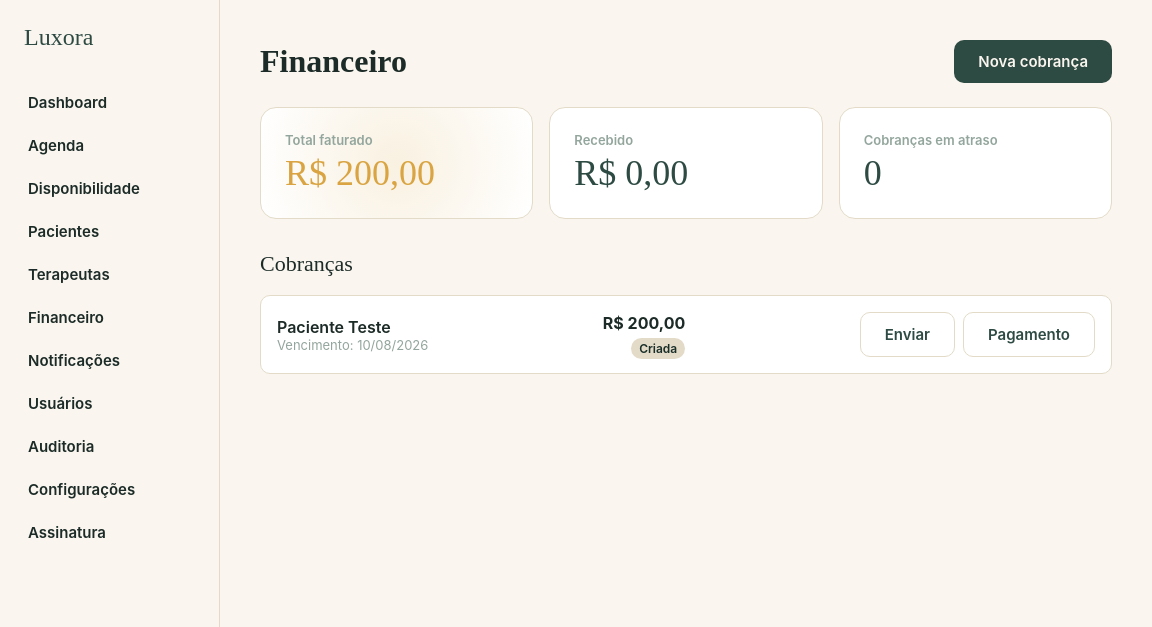
Financeiro e Notificações — datas com hora aparecem na hora da clínica › Financeiro: a sessão a cobrar aparece com a data e a hora da consulta na clínica; o vencimento, que é uma data sem hora, não muda
Expected: the text "Vencimento: 10/08/2026" is shown, [277,337,428,353]
Click the button "Nova cobrança": coordinates (1033, 62) [954,40,1112,83]
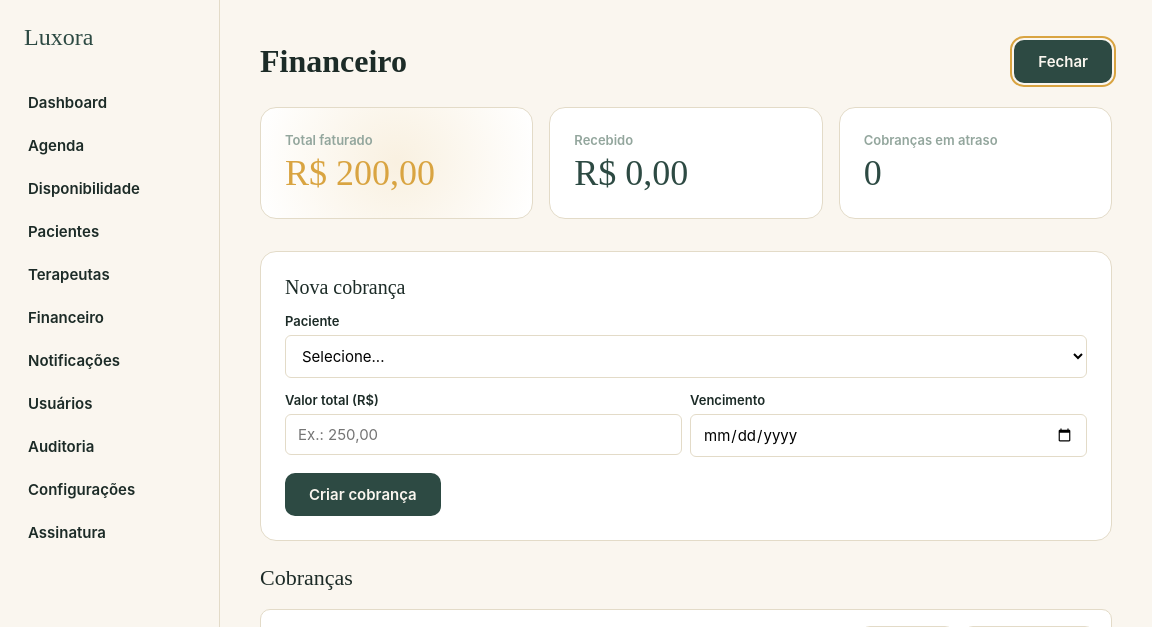
Select "Paciente Teste" in the dropdown labelled "Paciente": coordinates (686, 356) [285,335,1087,378]
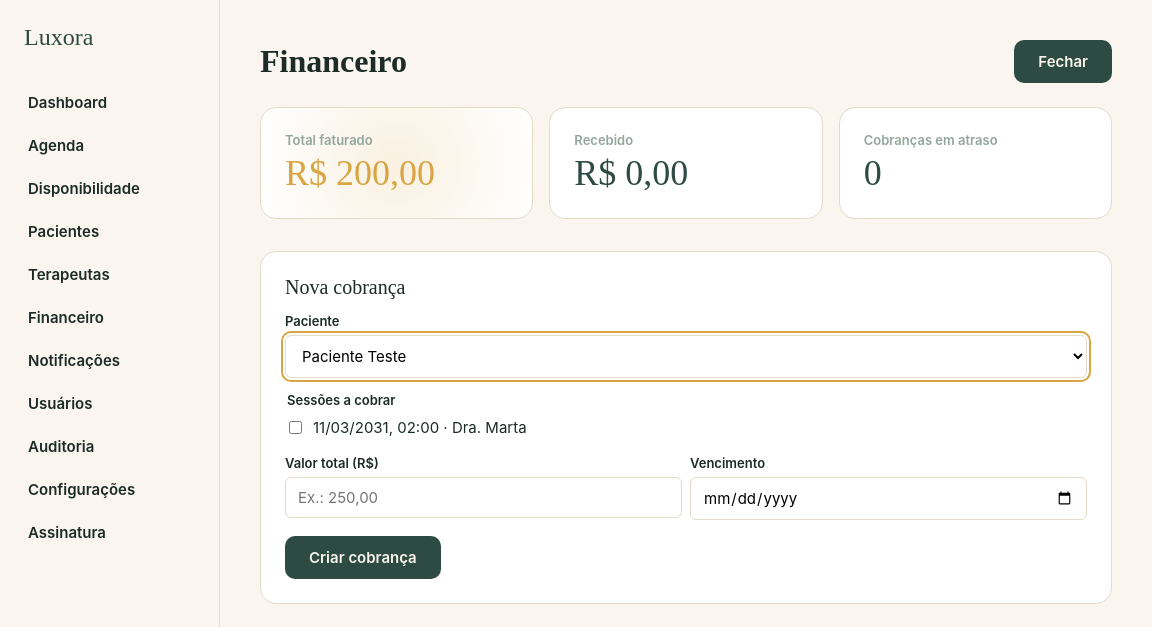
Result: the label "11/03/2031, 02:00 · Dra. Marta" is shown at [289,418,527,437]
